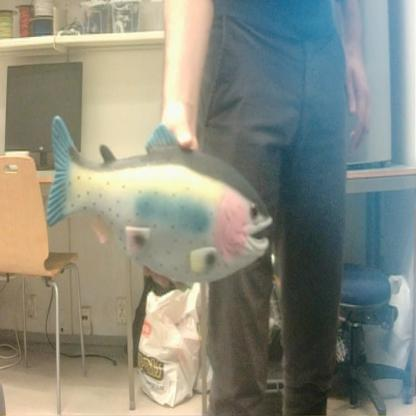rubberfish: (44, 111, 275, 287)
